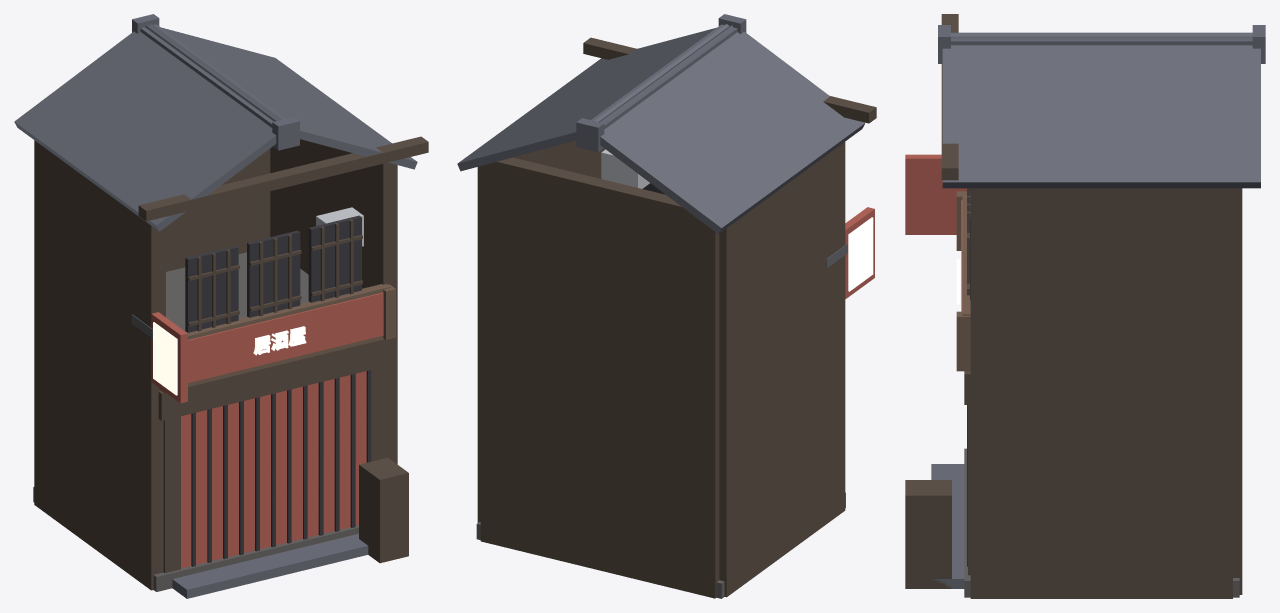
The model's file is prop_shop_izakaya_closed.glb.
The picture shows the model from 3 angles, left to right: view 1: azimuth 30°, elevation 25°; view 2: azimuth 150°, elevation 25°; view 3: azimuth 270°, elevation 25°; orthographic projection. The views are drawn at different scales.
Visible parts, largest first — view 1: shop_izakaya_closed; view 2: shop_izakaya_closed; view 3: shop_izakaya_closed.
Boxes of the visible parts, box(x1,y1,x2,y2) form: shop_izakaya_closed: box(14, 14, 428, 598); shop_izakaya_closed: box(457, 14, 876, 598); shop_izakaya_closed: box(905, 14, 1265, 598).
Size of the model in its own units: 3.9 by 5.9 by 3.85.
